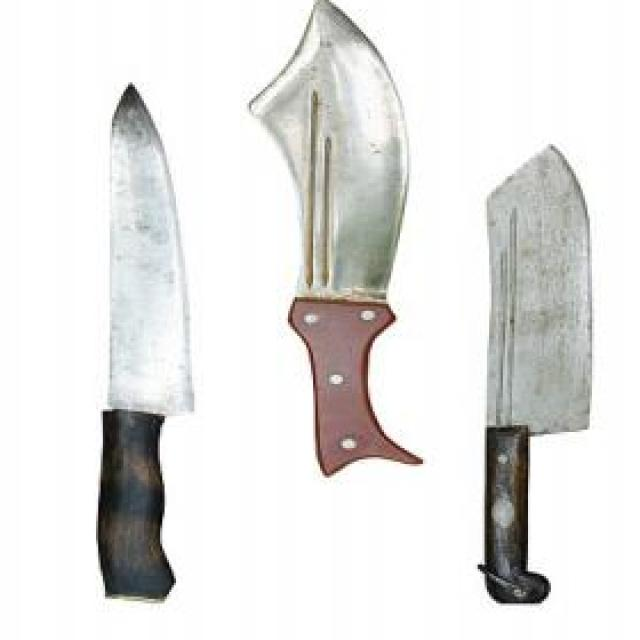knife: (439, 142, 596, 602), (281, 0, 425, 489), (75, 78, 204, 606)
